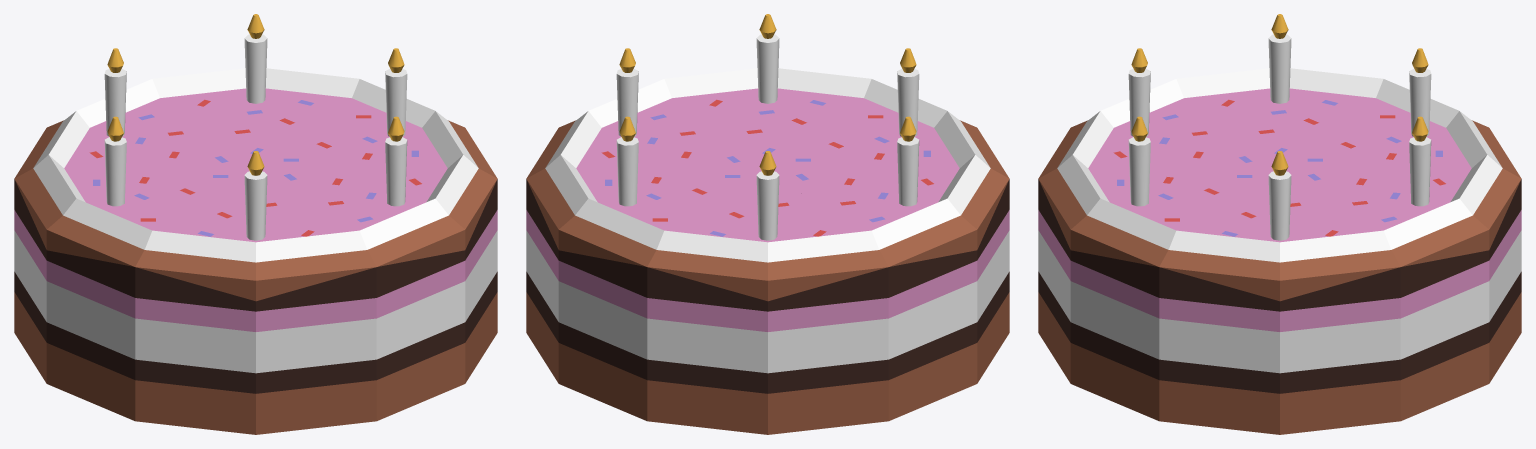
File: cakeBirthday.obj
3 views of the same model, side by side, from view 1: azimuth 30°, elevation 25°; view 2: azimuth 150°, elevation 25°; view 3: azimuth 270°, elevation 25° (orthographic).
Visible parts, largest first — view 1: slice; view 2: slice; view 3: slice.
Boxes of the visible parts, left/top/right/bottom form: slice: left=14, top=14, right=497, bottom=434; slice: left=526, top=14, right=1009, bottom=434; slice: left=1038, top=14, right=1521, bottom=434.
Bounding box in the file's own units: 0.6392 × 0.3638 × 0.6392.
